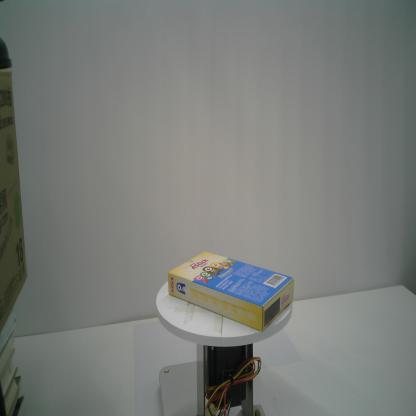Dessert: (167, 248, 295, 334)
